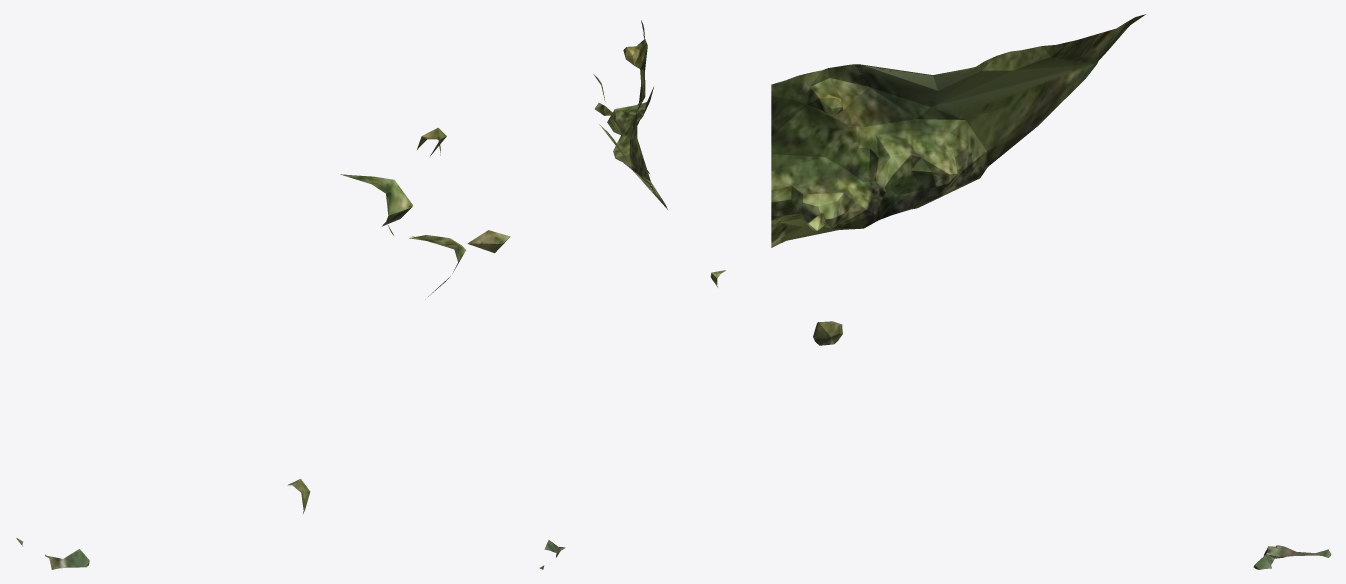
The picture shows the model from 3 angles, left to right: view 1: azimuth 30°, elevation 25°; view 2: azimuth 150°, elevation 25°; view 3: azimuth 270°, elevation 25°; orthographic projection. The views are drawn at different scales.
Size of the model in its own units: 2.11 by 5.9 by 5.54.
1 material, 1 textured.
